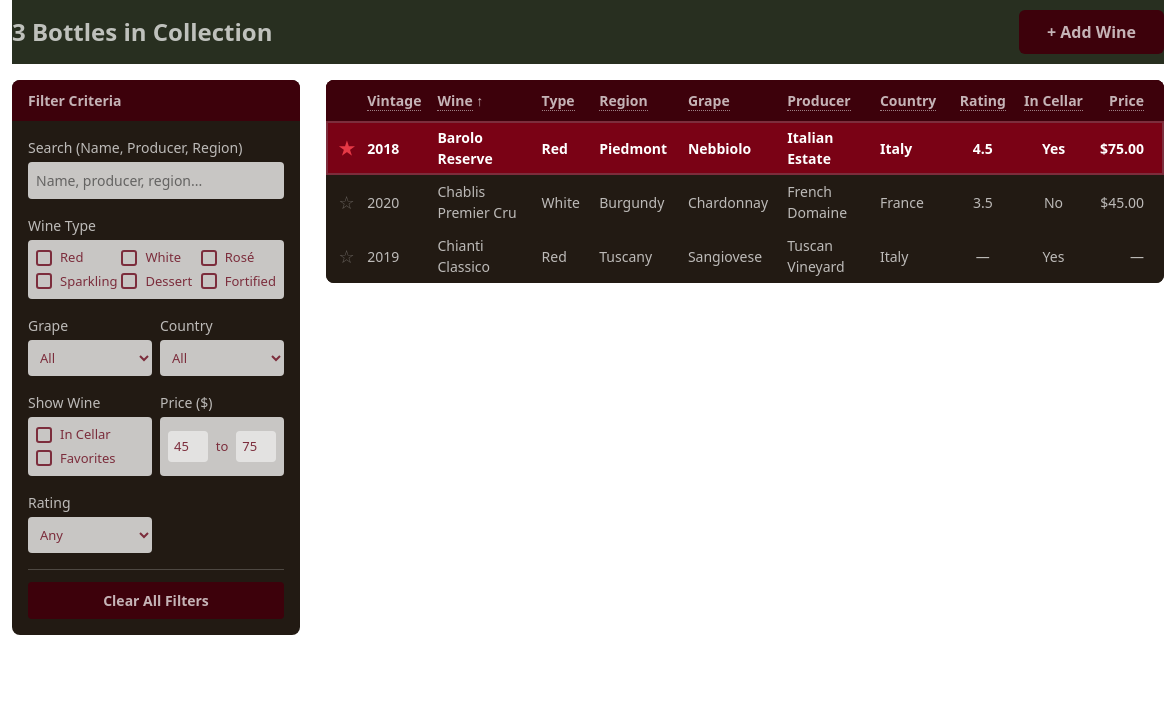
Scenario: Home Page - Additional Coverage › Filter Functionality › filters by minimum rating
Expected: the text "Barolo Reserve" is shown, [429,121,534,175]
// Find rating select by id
Select "4.0+" in the dropdown with id "min-rating": [90, 535] box [28,517,152,553]
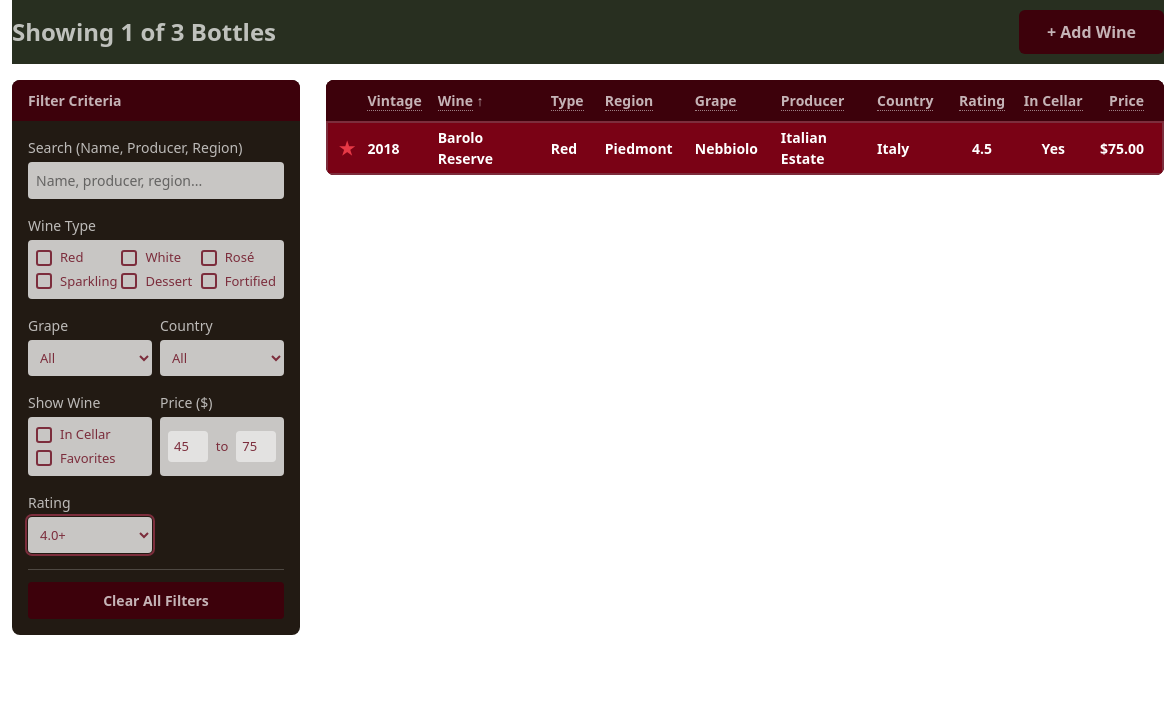
Expected: the text "Barolo Reserve" is shown, [430,121,543,175]
Expected: the text "Chablis Premier Cru" is gone
Expected: the text "Chianti Classico" is gone
